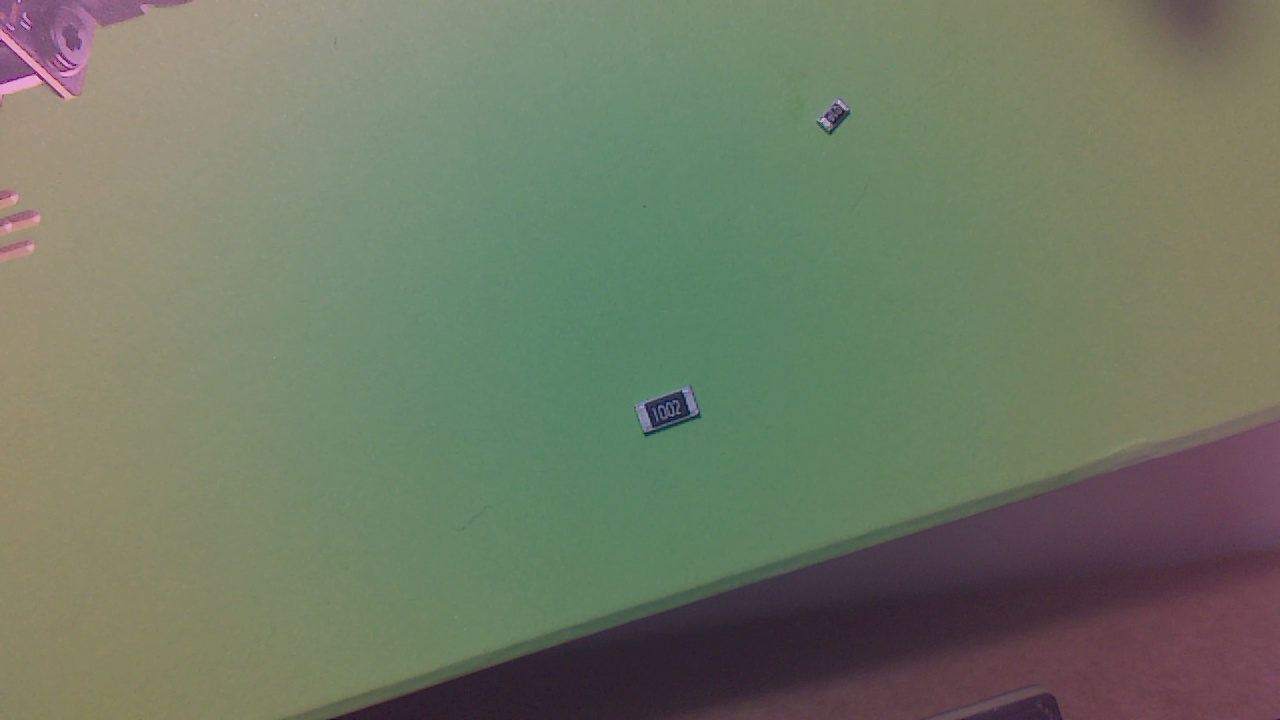Resistor: (638, 392, 705, 444), (824, 102, 857, 142)
